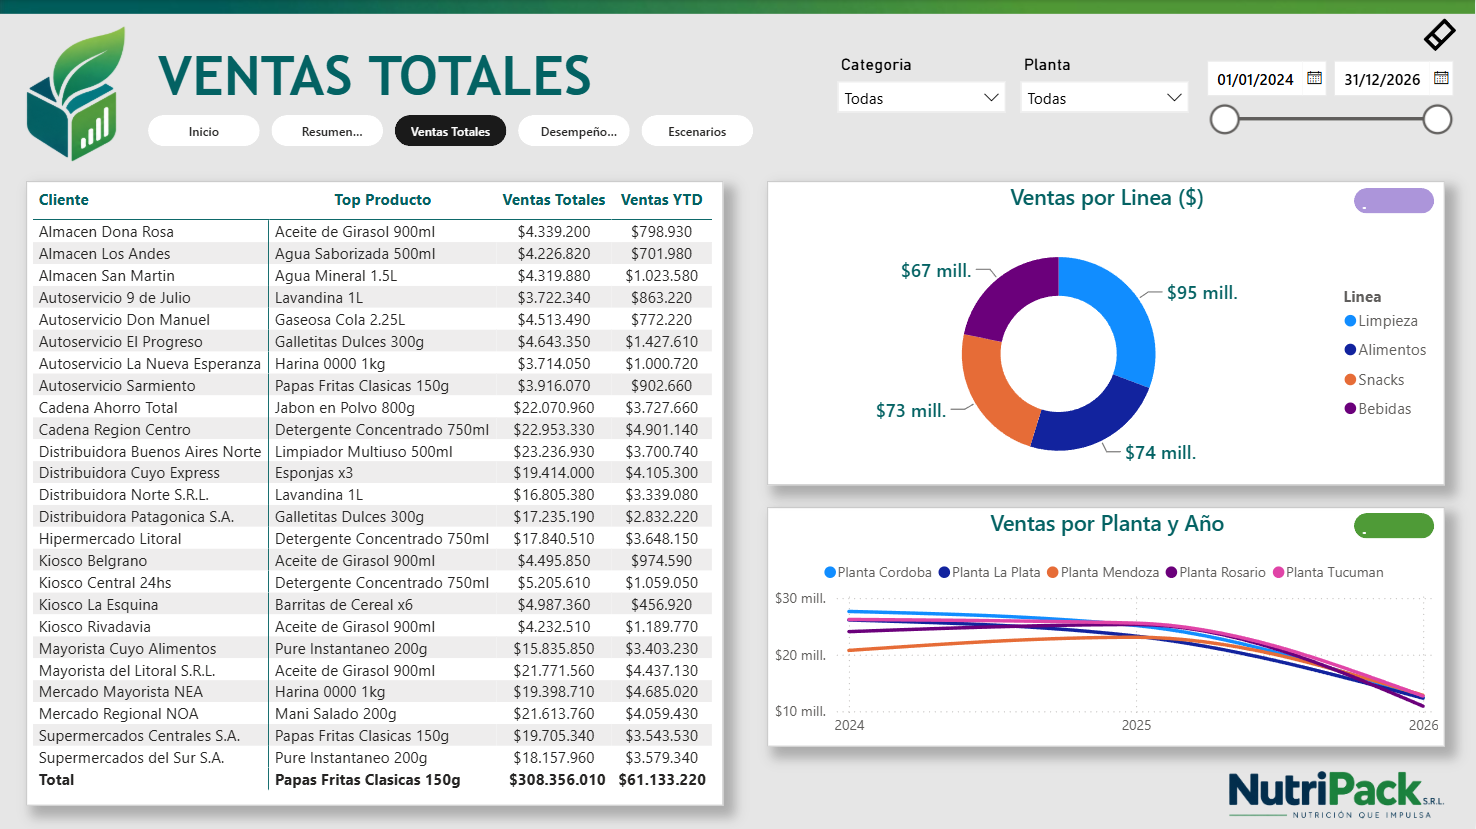

This screenshot's page, from the dashboard's own definition file:
{"tool":"powerbi","page":{"name":"Ventas Totales","canvas":[1280,720],"ordinal":2},"visuals":[{"type":"slicer","fields":{"Values":["Calendario.Date"]},"box":[1034.5,42.7,234.1,91],"z":0},{"type":"pageNavigator","box":[129,99.8,529.1,27.4],"z":1000},{"type":"textbox","title":"Titulo","box":[132.7,32.1,386.9,67.7],"z":2000},{"type":"image","title":"Logo","box":[15,20.3,94.5,123.7],"z":3000},{"type":"image","title":"NutriPack","box":[1067,664.7,187.3,50],"z":4000},{"type":"image","title":"Barra","box":[0,0,1280.9,12],"z":5000},{"type":"pivotTable","title":"Matriz Ventas","fields":{"Rows":["Cliente.Razon_Social"],"Values":["Ventas.(M) Top Producto","Ventas.(M) VentasTotales","Ventas.(M) VentasYTD"]},"box":[23.4,157,605.5,542.2],"z":6000},{"type":"lineChart","title":"Ventas por Planta y Año","fields":{"Category":["Calendario.Año"],"Series":["Planta.Nombre_Planta"],"Y":["Ventas.(M) VentasTotales"]},"box":[666.2,439.8,588.1,208.2],"z":9000},{"type":"actionButton","title":"Botón Ver Claro (a Region)","box":[1175.4,445,69.6,22.2],"z":10000},{"type":"donutChart","title":"Ventas por Linea ($)","fields":{"Category":["Producto.Linea"],"Y":["Ventas.(M) VentasTotales"]},"box":[666,157,588,264],"z":13000},{"type":"actionButton","title":"Boton lila (a %)","box":[1175.8,163.3,69.6,22.2],"z":14000},{"type":"slicer","fields":{"Values":["Planta.Nombre_Planta"]},"box":[876.4,42.7,166.4,70.9],"z":15000},{"type":"slicer","fields":{"Values":["Producto.Categoria"]},"box":[717.3,42.7,166.4,70.9],"z":16000},{"type":"actionButton","box":[1231.8,11.8,44.5,36.4],"z":17000}]}

Visuals, with their boxes in screenshot pixels (x1, y1, x2, y2), scaled from the page's 1280x720 canvas onto the 1476x829 screenshot:
slicer - Calendario.Date: bbox=[1193, 49, 1463, 154]
pageNavigator: bbox=[149, 115, 759, 146]
"Titulo" textbox: bbox=[153, 37, 599, 115]
"Logo" image: bbox=[17, 23, 126, 166]
"NutriPack" image: bbox=[1230, 765, 1446, 823]
"Barra" image: bbox=[0, 0, 1475, 14]
"Matriz Ventas" pivotTable: bbox=[27, 181, 725, 805]
"Ventas por Planta y Año" lineChart: bbox=[768, 506, 1446, 746]
"Botón Ver Claro (a Region)" actionButton: bbox=[1355, 512, 1436, 538]
"Ventas por Linea ($)" donutChart: bbox=[768, 181, 1446, 485]
"Boton lila (a %)" actionButton: bbox=[1356, 188, 1436, 214]
slicer - Planta.Nombre_Planta: bbox=[1011, 49, 1202, 131]
slicer - Producto.Categoria: bbox=[827, 49, 1019, 131]
actionButton: bbox=[1420, 14, 1472, 55]
